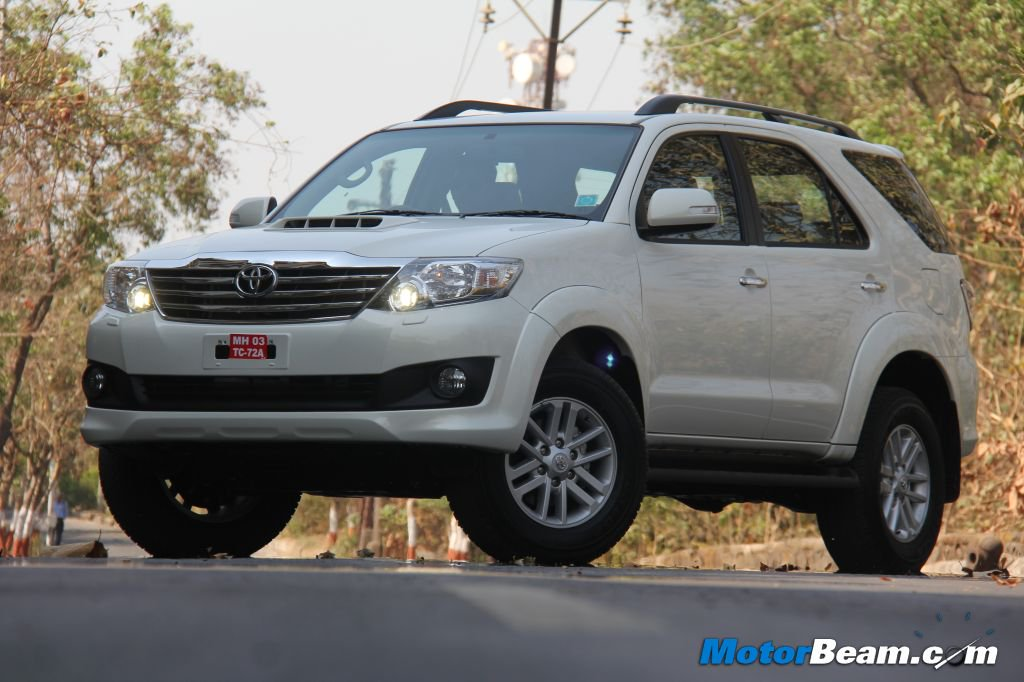number_plate: (206, 324, 295, 373)
